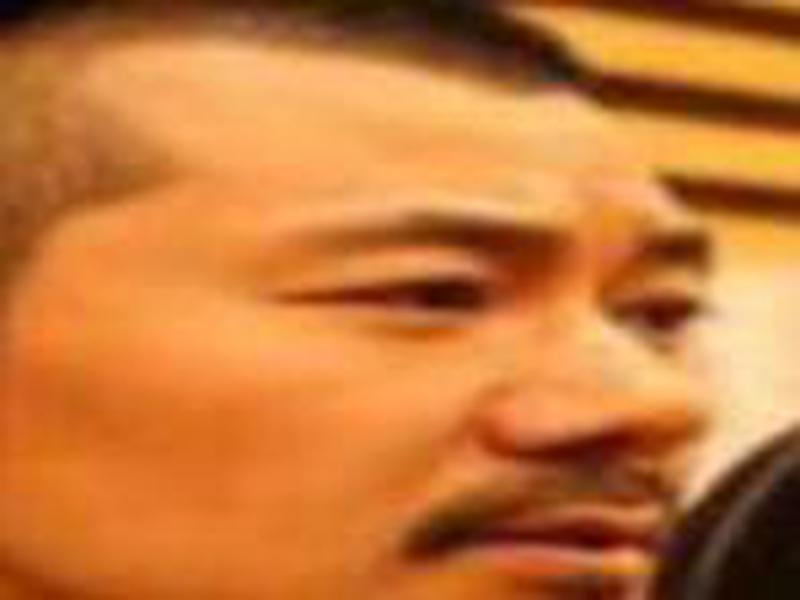without_mask: (8, 18, 714, 600)
